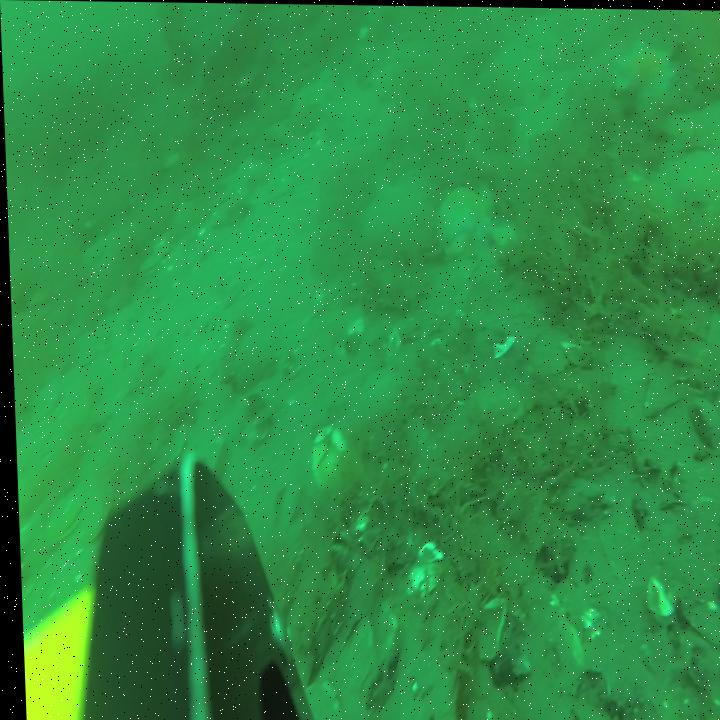scallop: (306, 423, 347, 492), (41, 487, 83, 546), (140, 252, 161, 277)
starfish: (430, 181, 495, 251), (611, 37, 672, 101)
